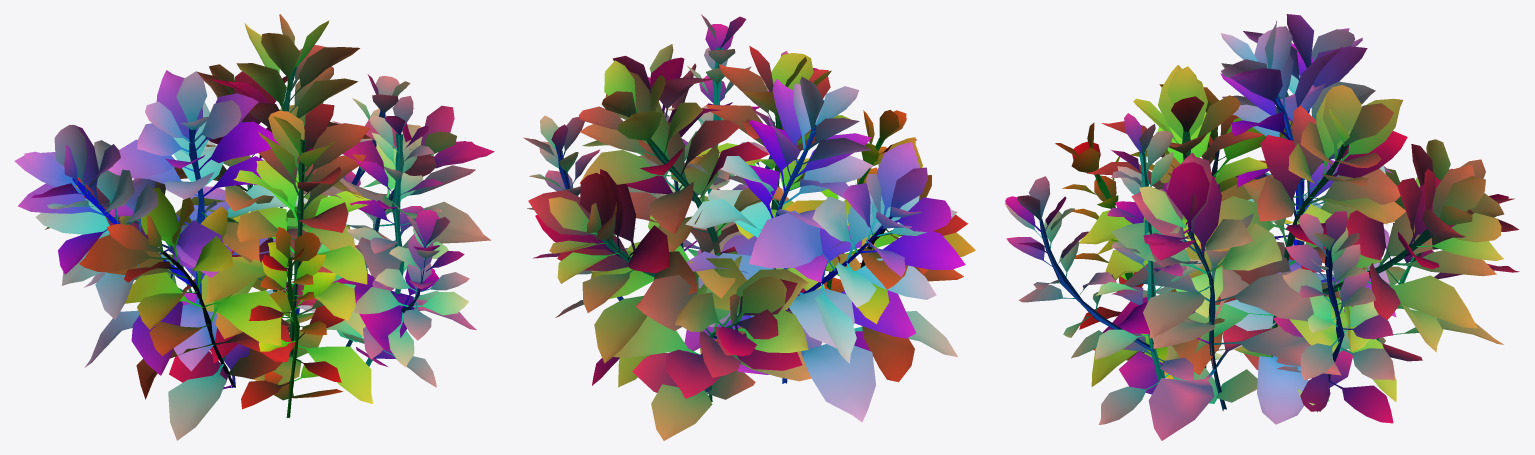
Rendered from Bigleaf_Hydrangea_vgztealha_Mid_vgztealha_VarF_LOD1.fbx.
The picture shows the model from 3 angles, left to right: view 1: azimuth 30°, elevation 25°; view 2: azimuth 150°, elevation 25°; view 3: azimuth 270°, elevation 25°; orthographic projection. The views are drawn at different scales.
Parts seen in each view (by area): view 1: _aivk_VarF_LOD3; view 2: _aivk_VarF_LOD3; view 3: _aivk_VarF_LOD3.
Part boxes in pixels (box(x1,y1,x2,y2)): _aivk_VarF_LOD3: box(14, 14, 494, 440); _aivk_VarF_LOD3: box(523, 14, 975, 440); _aivk_VarF_LOD3: box(1005, 14, 1519, 440).
Size of the model in its own units: 94.99 by 70.78 by 98.47.
